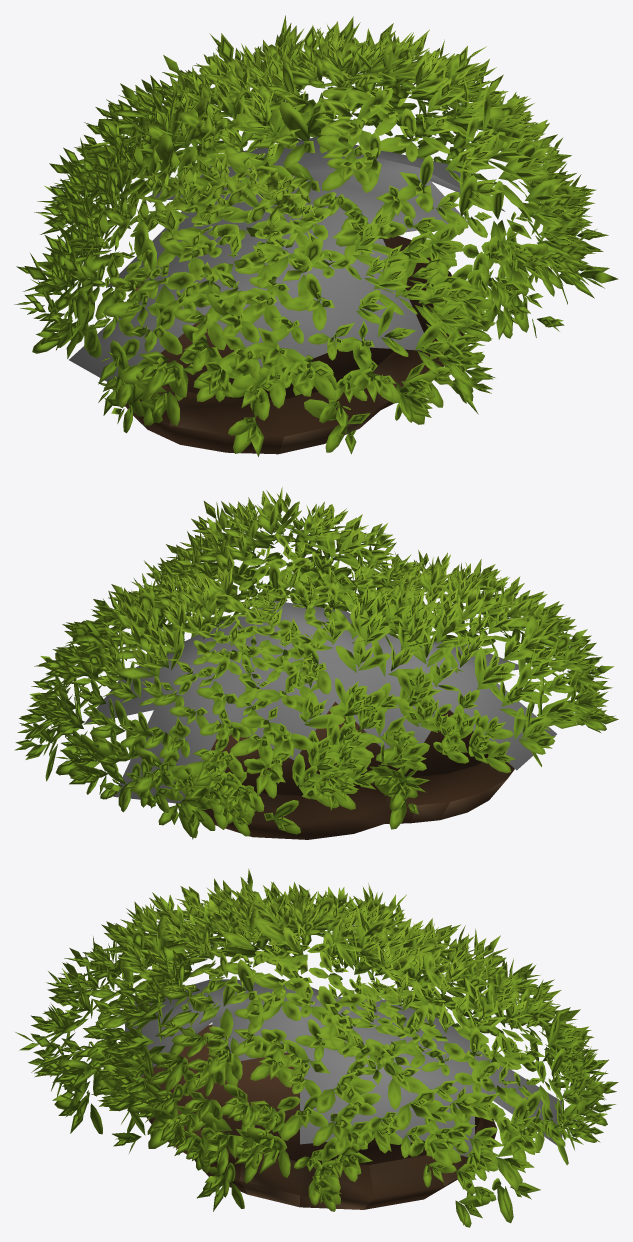
Rendered from moss-tuft-4.glb.
3 views of the same model, one above another, from view 1: azimuth 30°, elevation 25°; view 2: azimuth 150°, elevation 25°; view 3: azimuth 270°, elevation 25° (orthographic). The views are drawn at different scales.
Visible parts, largest first — view 1: lod0; view 2: lod0; view 3: lod0.
Part boxes in pixels (bbox=[...]): lod0: bbox=[14, 15, 618, 456]; lod0: bbox=[14, 487, 618, 839]; lod0: bbox=[15, 868, 618, 1227].
Size of what is drawn, in the model's own units: 0.9624 by 0.5131 by 1.
